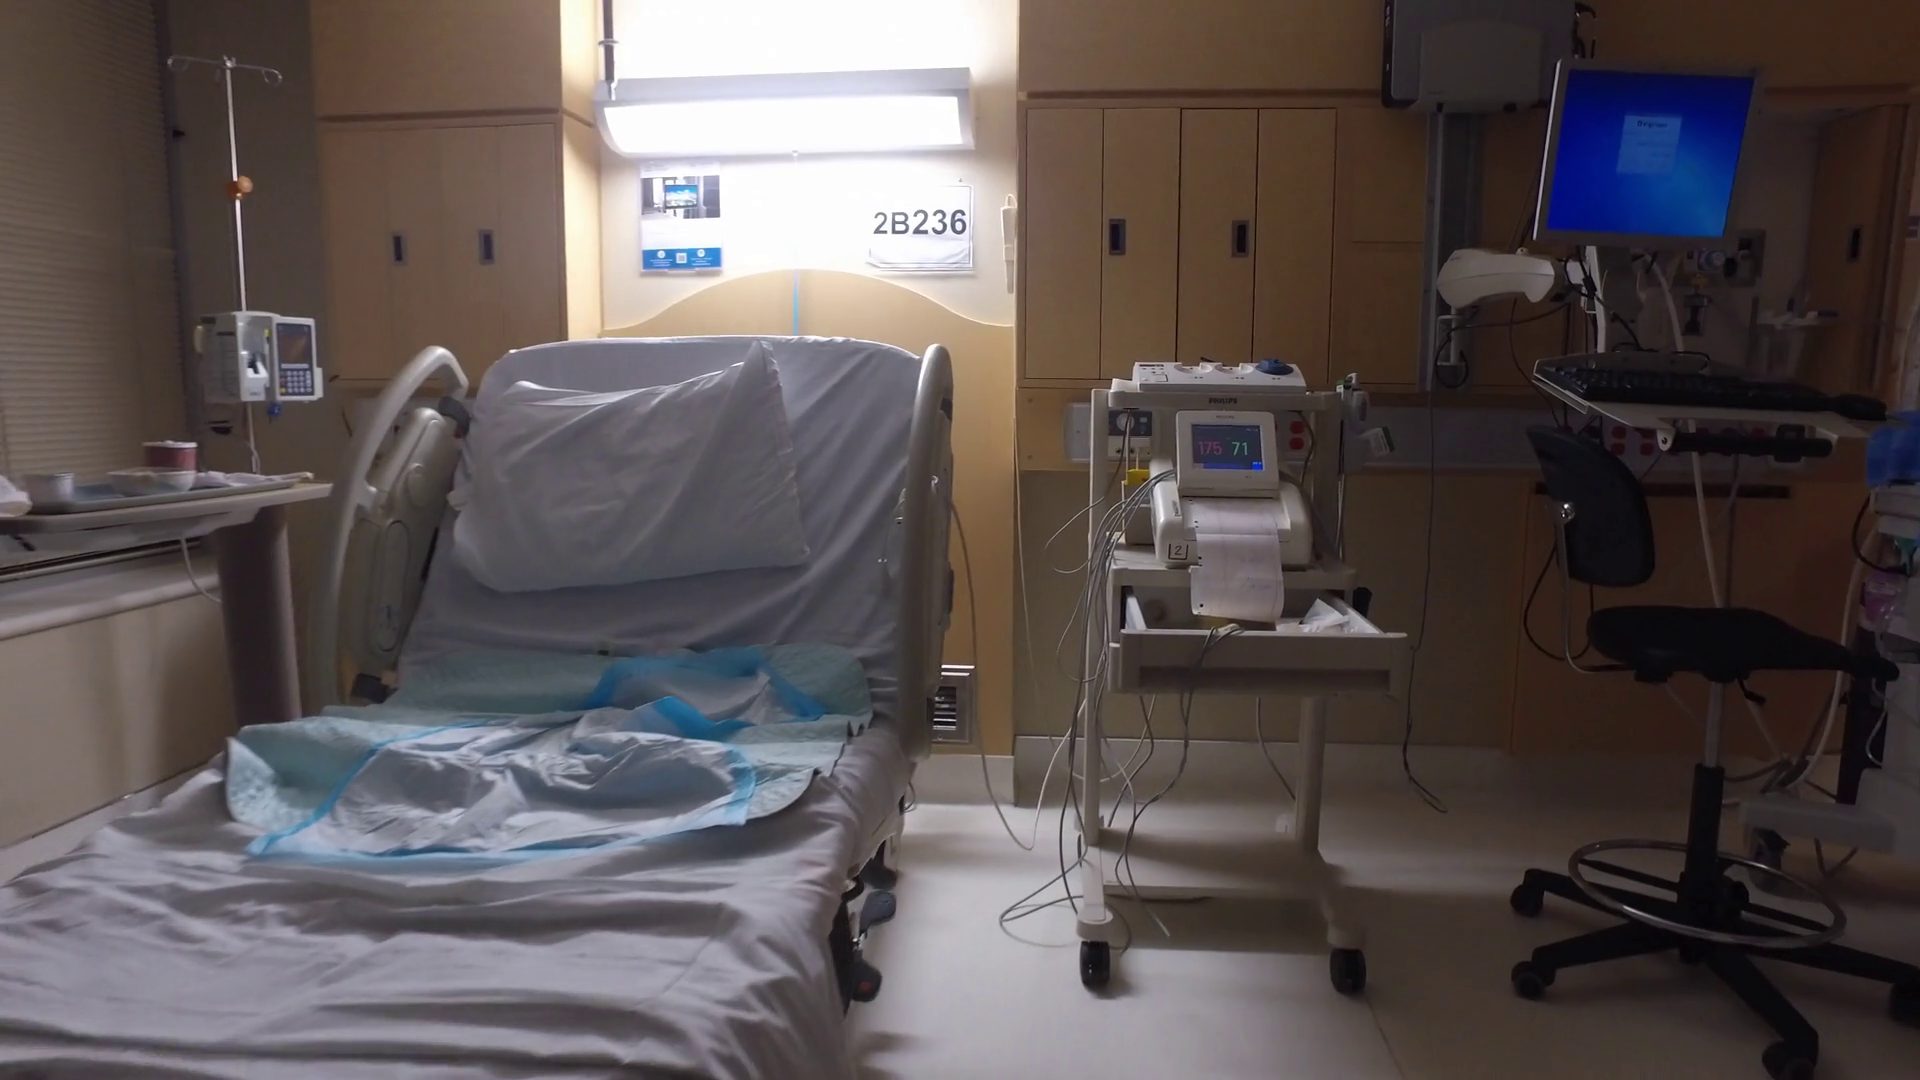hospital bed: (21, 361, 1004, 1048)
